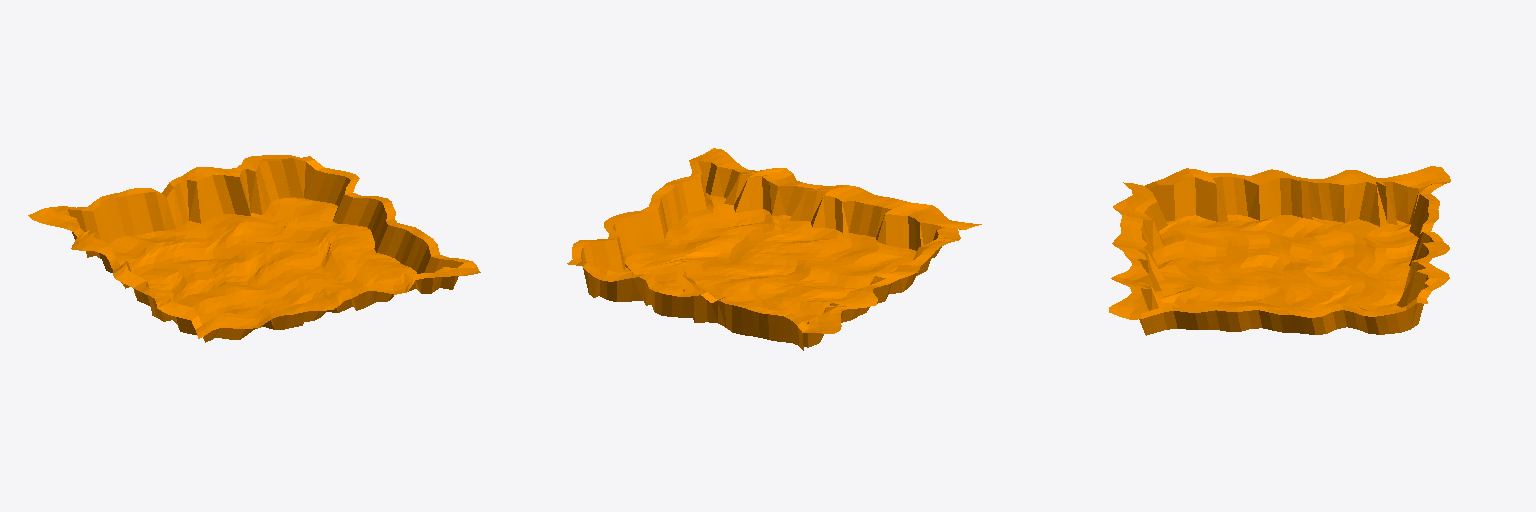
The model's file is asd.obj.
3 views of the same model, side by side, from view 1: azimuth 30°, elevation 25°; view 2: azimuth 150°, elevation 25°; view 3: azimuth 270°, elevation 25° (orthographic).
Parts seen in each view (by area): view 1: Plane001; view 2: Plane001; view 3: Plane001.
Part boxes in pixels (x1,y1,x2,y2): Plane001: (28,155,480,342); Plane001: (567,148,981,350); Plane001: (1109,166,1450,335).
Bounding box in the file's own units: 1075 × 139 × 1075.